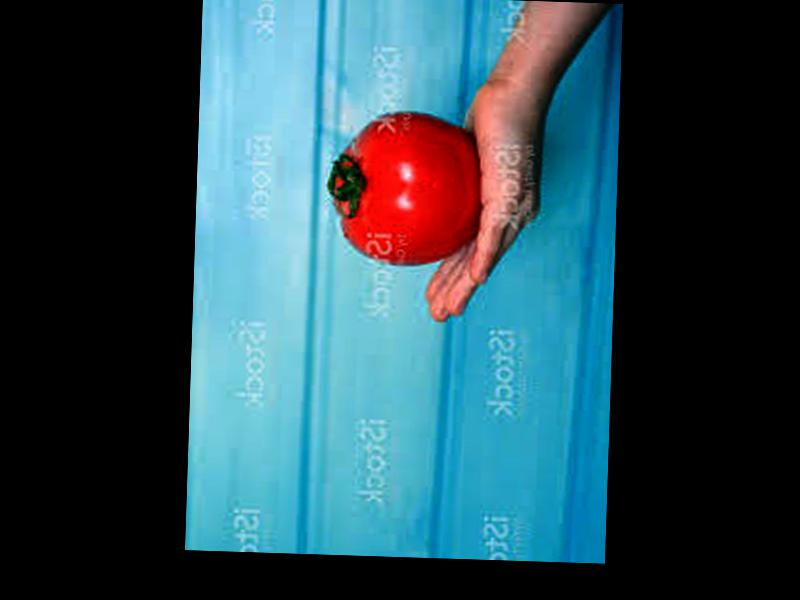Tomato: (327, 113, 484, 268)
